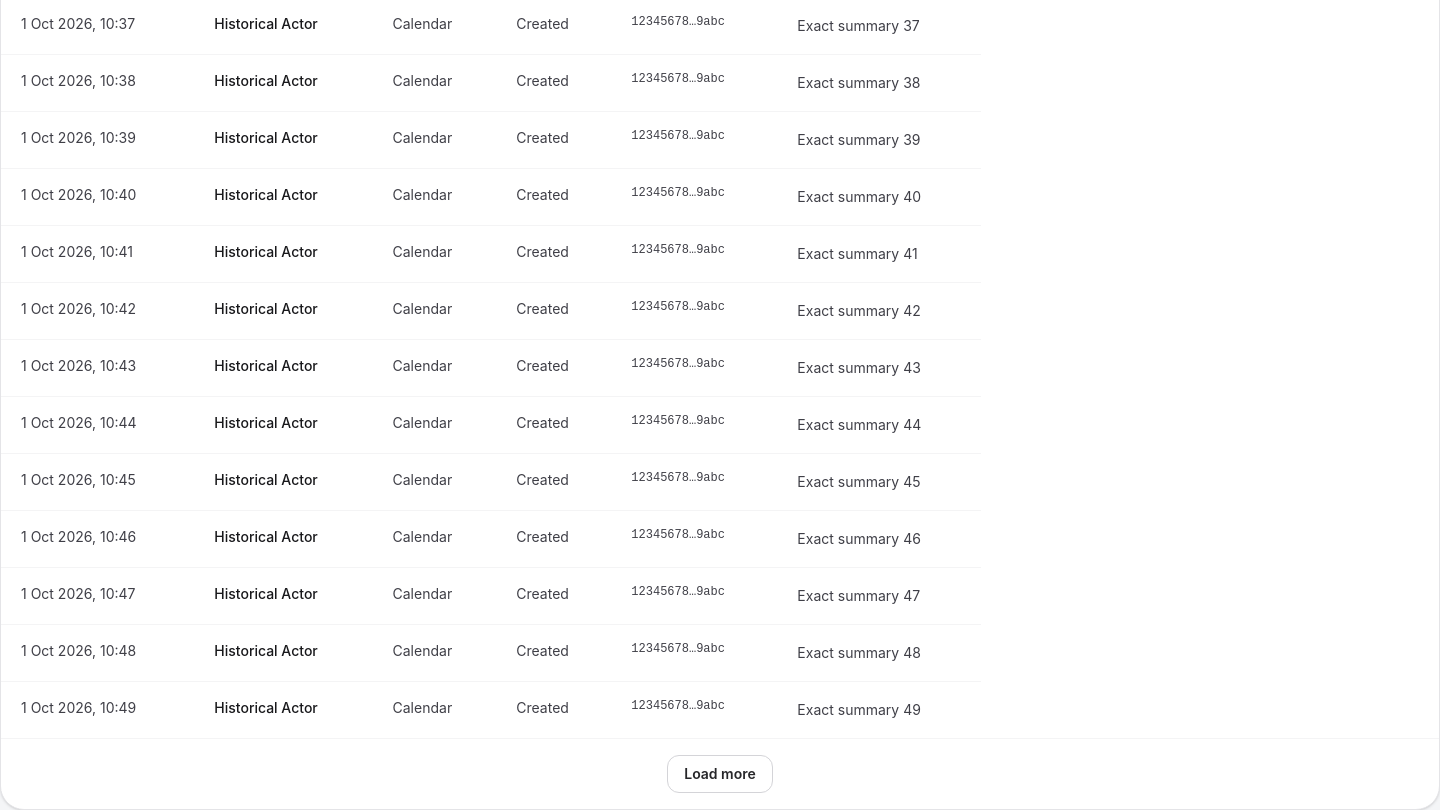
Test: ArchivePage › keeps loaded rows on pagination failure and retries the same continuation
(page scrolled)
Click the button "Load more". click: x=720, y=774
box: [667,755,773,793]
(page scrolled)
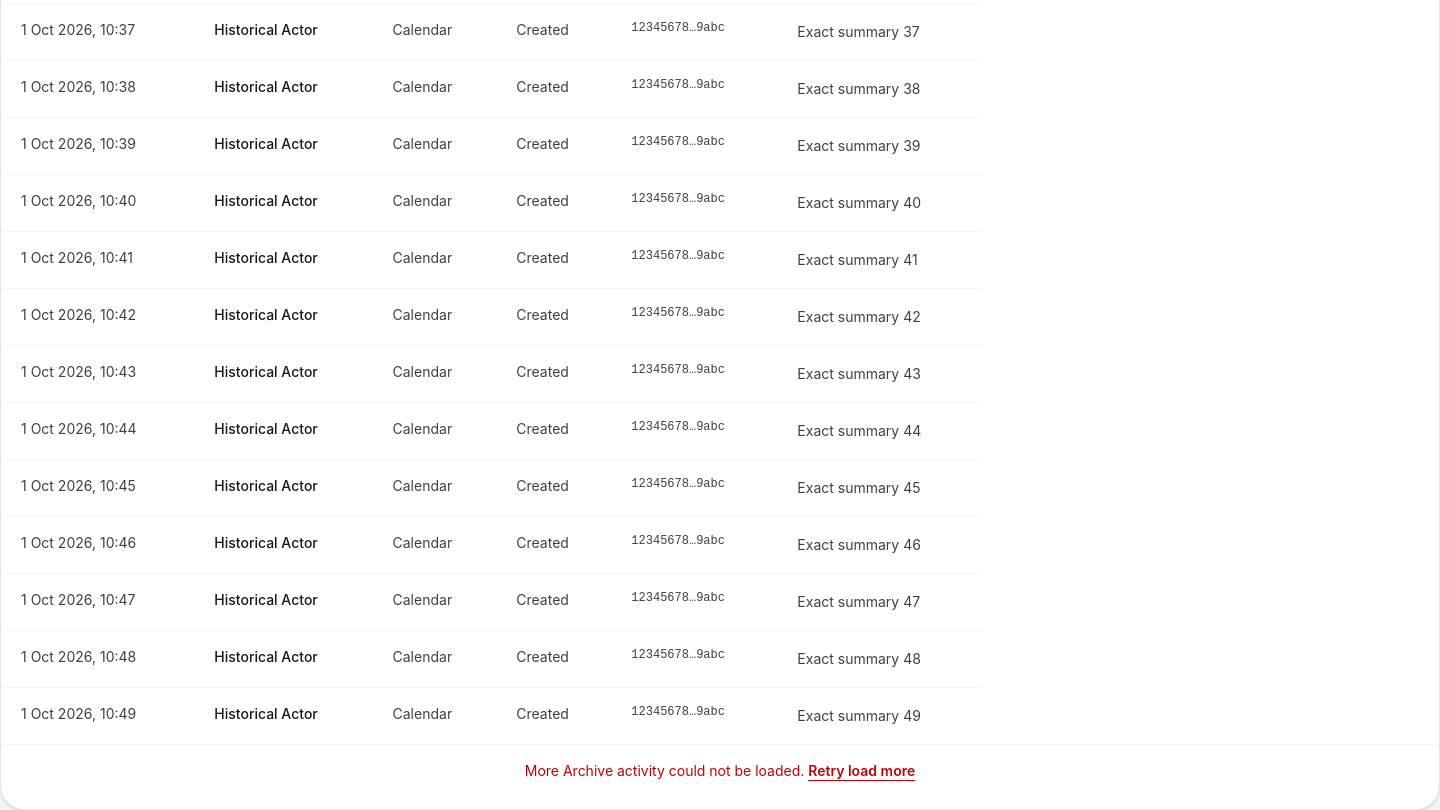
Now the message shows "More Archive activity could not be loaded.", box [525,762,804,779]
Click the button "Retry load more". click: x=862, y=771
box: [808,761,915,781]
(page scrolled)
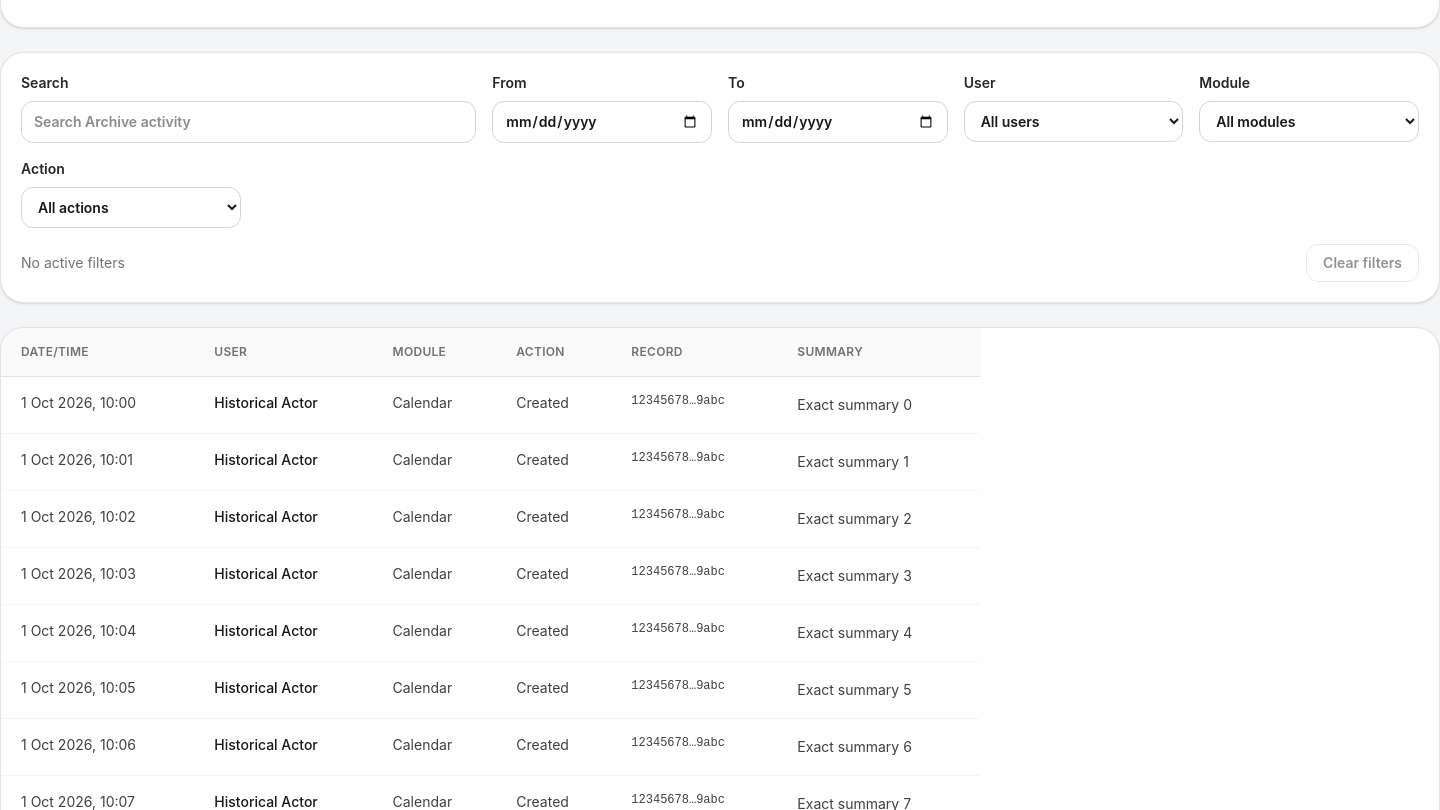
Expected: the text "Exact summary 0" is shown, [777,376,981,434]
Now the button "load more" is gone
